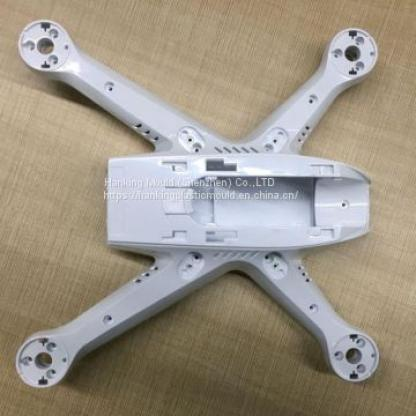drone: (7, 15, 403, 398)
